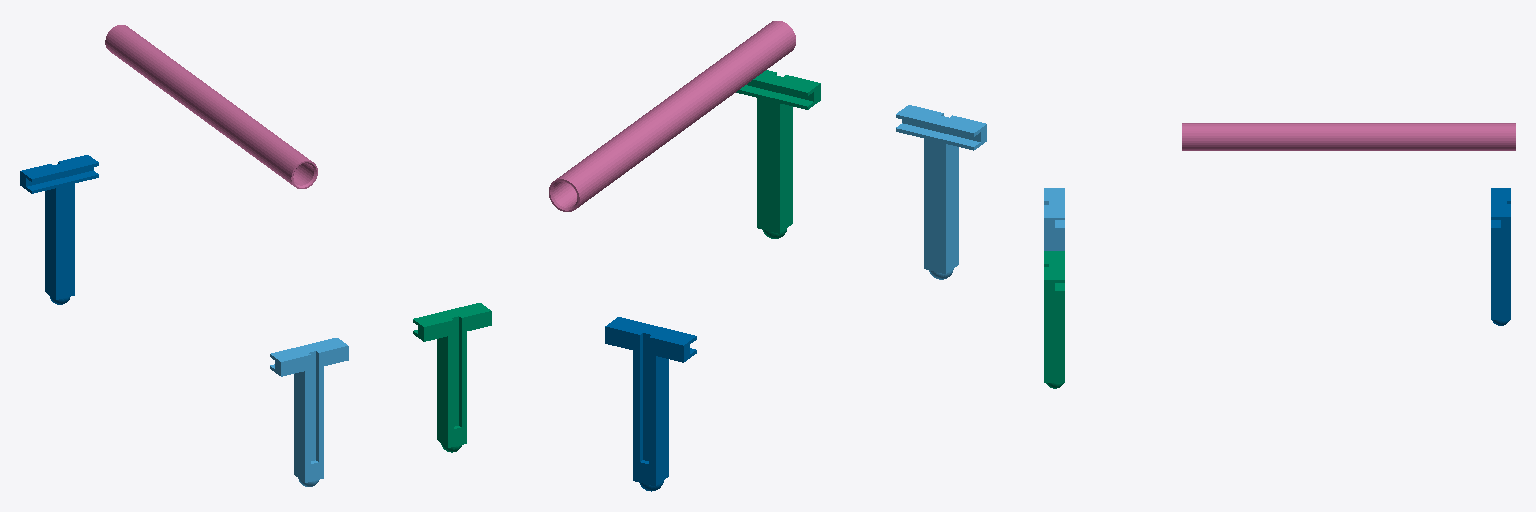
robot.urdf — BECOV2:
<robot name="BECOV2" version="1.0">
  <joint name="LEG_LEFT_LEFT_JOINT" type="prismatic">
    <limit lower="-0.02500" upper="0.00000" effort="1.00000" velocity="0.10000"/>
    <origin rpy="0.00000 0.00000 0.00000" xyz="-0.02465 -0.03079 -0.04494"/>
    <parent link="VISUAL_LEFTBODY_LINK"/>
    <child link="VISUAL_LEG_LEFT_LEFT_LINK"/>
    <axis xyz="0.00000 0.00000 1.00000"/>
  </joint>
  <joint name="LEG_LEFT_RIGHT_JOINT" type="prismatic">
    <limit lower="-0.02500" upper="0.00000" effort="1.00000" velocity="0.10000"/>
    <origin rpy="0.00000 0.00000 0.00000" xyz="0.02372 -0.03079 -0.04494"/>
    <parent link="VISUAL_LEFTBODY_LINK"/>
    <child link="VISUAL_LEG_LEFT_RIGHT_LINK"/>
    <axis xyz="0.00000 0.00000 1.00000"/>
  </joint>
  <joint name="LEG_RIGHT_LEFT_JOINT" type="prismatic">
    <limit lower="-0.02500" upper="0.00000" effort="1.00000" velocity="0.10000"/>
    <origin rpy="0.00000 0.00000 0.00000" xyz="0.02646 0.01264 -0.04295"/>
    <parent link="VISUAL_RIGHTBODY_LINK"/>
    <child link="VISUAL_LEG_RIGHT_LEFT_LINK"/>
    <axis xyz="0.00000 0.00000 1.00000"/>
  </joint>
  <joint name="LEG_RIGHT_RIGHT_JOINT" type="prismatic">
    <limit lower="-0.02500" upper="0.00000" effort="1.00000" velocity="0.10000"/>
    <origin rpy="0.00000 0.00000 0.00000" xyz="-0.02190 0.01264 -0.04295"/>
    <parent link="VISUAL_RIGHTBODY_LINK"/>
    <child link="VISUAL_LEG_RIGHT_RIGHT_LINK"/>
    <axis xyz="0.00000 0.00000 1.00000"/>
  </joint>
  <joint name="RIGHTBODY_JOINT" type="fixed">
    <origin rpy="0.00000 0.00000 0.00000" xyz="-0.00067 0.03262 -0.02065"/>
    <parent link="VISUAL_SHAFT_LINK"/>
    <child link="VISUAL_RIGHTBODY_LINK"/>
  </joint>
  <joint name="SHAFT_JOINT" type="prismatic">
    <limit lower="0.00000" upper="0.10000" effort="1.00000" velocity="0.10000"/>
    <origin rpy="0.00000 0.00000 0.00000" xyz="-0.00207 0.06764 0.01866"/>
    <parent link="VISUAL_LEFTBODY_LINK"/>
    <child link="VISUAL_SHAFT_LINK"/>
    <axis xyz="0.00000 1.00000 0.00000"/>
  </joint>
  <link name="VISUAL_LEFTBODY_LINK">
    <collision name="LEFTBODYC1">
      <origin rpy="0.00000 0.00000 0.00000" xyz="-0.00043 -0.01087 -0.00050"/>
      <geometry>
        <box size="0.07056 0.06465 0.02289"/>
      </geometry>
    </collision>
    <collision name="LEFTBODYC2">
      <origin rpy="0.00000 0.00000 0.00000" xyz="-0.00043 -0.01093 -0.03282"/>
      <geometry>
        <box size="0.02304 0.06465 0.03785"/>
      </geometry>
    </collision>
    <collision name="LEFTBODYC3">
      <origin rpy="0.00000 0.00000 0.00000" xyz="-0.03262 -0.01093 -0.03282"/>
      <geometry>
        <box size="0.00636 0.06465 0.03785"/>
      </geometry>
    </collision>
    <collision name="LEFTBODYC4">
      <origin rpy="0.00000 0.00000 0.00000" xyz="-0.01675 -0.01093 -0.03282"/>
      <geometry>
        <box size="0.00636 0.06465 0.03785"/>
      </geometry>
    </collision>
    <collision name="LEFTBODYC5">
      <origin rpy="0.00000 0.00000 0.00000" xyz="0.01559 -0.01093 -0.03282"/>
      <geometry>
        <box size="0.00636 0.06465 0.03785"/>
      </geometry>
    </collision>
    <collision name="LEFTBODYC6">
      <origin rpy="0.00000 0.00000 0.00000" xyz="0.03146 -0.01093 -0.03282"/>
      <geometry>
        <box size="0.00636 0.06465 0.03785"/>
      </geometry>
    </collision>
    <inertial>
      <inertia ixx="0.00100" ixy="0.00000" ixz="0.00000" iyy="0.00100" iyz="0.00000" izz="0.00100"/>
      <origin rpy="0.00000 0.00000 0.00000" xyz="-0.00036 -0.01043 -0.00849"/>
      <mass value="0.00100"/>
    </inertial>
    <visual name="LEFTBODY_VISUAL">
      <origin rpy="0.00000 -1.57080 0.00000" xyz="-0.00036 -0.01043 -0.00849"/>
      <geometry>
        <mesh filename="../meshes/stl/LEFTBODY.stl" scale="1.00000 1.00000 1.00000"/>
      </geometry>
    </visual>
  </link>
  <link name="VISUAL_LEG_LEFT_LEFT_LINK">
    <collision name="LEG_LEFT_LEFTC1">
      <origin rpy="0.00000 0.00000 0.00000" xyz="0.00023 -0.00038 0.00817"/>
      <geometry>
        <box size="0.00636 0.00674 0.03892"/>
      </geometry>
    </collision>
    <collision name="LEG_LEFT_LEFTC2">
      <origin rpy="0.00000 0.00000 0.00000" xyz="0.00019 -0.00045 -0.01436"/>
      <geometry>
        <mesh filename="../meshes/stl/Sphere.001.stl" scale="1.00000 1.00000 1.00000"/>
      </geometry>
    </collision>
    <inertial>
      <inertia ixx="0.00100" ixy="0.00000" ixz="0.00000" iyy="0.00100" iyz="0.00000" izz="0.00100"/>
      <origin rpy="0.00000 0.00000 0.00000" xyz="0.00019 -0.00045 -0.01199"/>
      <mass value="0.00100"/>
    </inertial>
    <visual name="LEG_LEFT_LEFT_VISUAL">
      <origin rpy="1.57080 0.00000 0.00000" xyz="0.00019 -0.00045 -0.01210"/>
      <geometry>
        <mesh filename="../meshes/stl/LEG_LEFT_RIGHT.stl" scale="1.00000 1.00000 1.00000"/>
      </geometry>
    </visual>
  </link>
  <link name="VISUAL_LEG_LEFT_RIGHT_LINK">
    <collision name="LEG_LEFT_RIGHTC1">
      <origin rpy="0.00000 0.00000 0.00000" xyz="-0.00045 -0.00038 0.00817"/>
      <geometry>
        <box size="0.00636 0.00674 0.03892"/>
      </geometry>
    </collision>
    <collision name="LEG_LEFT_RIGHTC2">
      <origin rpy="0.00000 0.00000 0.00000" xyz="-0.00041 -0.00045 -0.01436"/>
      <geometry>
        <mesh filename="../meshes/stl/Sphere.002.stl" scale="1.00000 1.00000 1.00000"/>
      </geometry>
    </collision>
    <inertial>
      <inertia ixx="0.00100" ixy="0.00000" ixz="0.00000" iyy="0.00100" iyz="0.00000" izz="0.00100"/>
      <origin rpy="0.00000 0.00000 0.00000" xyz="-0.00030 -0.00045 -0.01199"/>
      <mass value="0.00100"/>
    </inertial>
    <visual name="LEG_LEFT_RIGHT_VISUAL">
      <origin rpy="1.57080 0.00000 0.00000" xyz="-0.00030 -0.00045 -0.01210"/>
      <geometry>
        <mesh filename="../meshes/stl/LEG_LEFT_LEFT.stl" scale="1.00000 1.00000 1.00000"/>
      </geometry>
    </visual>
  </link>
  <link name="VISUAL_LEG_RIGHT_LEFT_LINK">
    <collision name="LEG_RIGHT_LEFTC1">
      <origin rpy="-0.00000 0.00000 0.00000" xyz="-0.00024 0.00047 0.00817"/>
      <geometry>
        <box size="0.00636 0.00674 0.03892"/>
      </geometry>
    </collision>
    <collision name="LEG_RIGHT_LEFTC2">
      <origin rpy="-0.00000 0.00000 0.00000" xyz="-0.00027 0.00041 -0.01436"/>
      <geometry>
        <mesh filename="../meshes/stl/Sphere.004.stl" scale="1.00000 1.00000 1.00000"/>
      </geometry>
    </collision>
    <inertial>
      <inertia ixx="0.00100" ixy="0.00000" ixz="0.00000" iyy="0.00100" iyz="0.00000" izz="0.00100"/>
      <origin rpy="0.00000 0.00000 0.00000" xyz="-0.00030 0.00035 -0.01199"/>
      <mass value="0.00100"/>
    </inertial>
    <visual name="LEG_RIGHT_LEFT_VISUAL">
      <origin rpy="1.57080 -0.00000 -3.14159" xyz="-0.00030 0.00035 -0.01199"/>
      <geometry>
        <mesh filename="../meshes/stl/LEG_RIGHT_RIGHT.stl" scale="1.00000 1.00000 1.00000"/>
      </geometry>
    </visual>
  </link>
  <link name="VISUAL_LEG_RIGHT_RIGHT_LINK">
    <collision name="LEG_RIGHT_RIGHTC1">
      <origin rpy="-0.00000 0.00000 0.00000" xyz="0.00023 0.00047 0.00817"/>
      <geometry>
        <box size="0.00636 0.00674 0.03892"/>
      </geometry>
    </collision>
    <collision name="LEG_RIGHT_RIGHTC2">
      <origin rpy="-0.00000 0.00000 0.00000" xyz="0.00019 0.00041 -0.01436"/>
      <geometry>
        <mesh filename="../meshes/stl/Sphere.003.stl" scale="1.00000 1.00000 1.00000"/>
      </geometry>
    </collision>
    <inertial>
      <inertia ixx="0.00100" ixy="0.00000" ixz="0.00000" iyy="0.00100" iyz="0.00000" izz="0.00100"/>
      <origin rpy="0.00000 0.00000 0.00000" xyz="0.00019 0.00035 -0.01199"/>
      <mass value="0.00100"/>
    </inertial>
    <visual name="LEG_RIGHT_RIGHT_VISUAL">
      <origin rpy="1.57080 -0.00000 -3.14159" xyz="0.00019 0.00035 -0.01199"/>
      <geometry>
        <mesh filename="../meshes/stl/LEG_RIGHT_RIGHT.001.stl" scale="1.00000 1.00000 1.00000"/>
      </geometry>
    </visual>
  </link>
  <link name="VISUAL_RIGHTBODY_LINK">
    <collision name="RIGHTBODYC1">
      <origin rpy="0.00000 0.00000 0.00000" xyz="0.00232 -0.00400 0.00149"/>
      <geometry>
        <box size="0.07056 0.06465 0.02289"/>
      </geometry>
    </collision>
    <collision name="RIGHTBODYC2">
      <origin rpy="0.00000 0.00000 0.00000" xyz="0.00232 -0.00412 -0.03084"/>
      <geometry>
        <box size="0.02304 0.06465 0.03785"/>
      </geometry>
    </collision>
    <collision name="RIGHTBODYC3">
      <origin rpy="0.00000 0.00000 0.00000" xyz="-0.02988 -0.00412 -0.03084"/>
      <geometry>
        <box size="0.00636 0.06465 0.03785"/>
      </geometry>
    </collision>
    <collision name="RIGHTBODYC4">
      <origin rpy="0.00000 0.00000 0.00000" xyz="-0.01401 -0.00412 -0.03084"/>
      <geometry>
        <box size="0.00636 0.06465 0.03785"/>
      </geometry>
    </collision>
    <collision name="RIGHTBODYC5">
      <origin rpy="0.00000 0.00000 0.00000" xyz="0.01834 -0.00412 -0.03084"/>
      <geometry>
        <box size="0.00636 0.06465 0.03785"/>
      </geometry>
    </collision>
    <collision name="RIGHTBODYC6">
      <origin rpy="0.00000 0.00000 0.00000" xyz="0.03421 -0.00412 -0.03084"/>
      <geometry>
        <box size="0.00636 0.06465 0.03785"/>
      </geometry>
    </collision>
    <inertial>
      <inertia ixx="0.00100" ixy="0.00000" ixz="0.00000" iyy="0.00100" iyz="0.00000" izz="0.00100"/>
      <origin rpy="0.00000 0.00000 0.00000" xyz="0.00185 -0.01699 0.01912"/>
      <mass value="0.00100"/>
    </inertial>
    <visual name="RIGHTBODY_VISUAL">
      <origin rpy="-3.14159 -1.57080 0.00000" xyz="0.00185 -0.01699 -0.02163"/>
      <geometry>
        <mesh filename="../meshes/stl/RIGHTBODY.stl" scale="1.00000 1.00000 1.00000"/>
      </geometry>
    </visual>
  </link>
  <link name="VISUAL_SHAFT_LINK">
    <collision name="SHAFTC1">
      <origin rpy="0.00000 0.00000 0.00000" xyz="-0.00009 -0.00797 -0.00153"/>
      <geometry>
        <box size="0.01140 0.11669 0.01140"/>
      </geometry>
    </collision>
    <inertial>
      <inertia ixx="0.00100" ixy="0.00000" ixz="0.00000" iyy="0.00100" iyz="0.00000" izz="0.00100"/>
      <origin rpy="0.00000 0.00000 0.00000" xyz="-0.00003 -0.00366 -0.00153"/>
      <mass value="0.00100"/>
    </inertial>
    <visual name="SHAFT_VISUAL">
      <origin rpy="0.00000 0.00000 0.00000" xyz="-0.00003 -0.00366 -0.00153"/>
      <geometry>
        <mesh filename="../meshes/stl/SHAFT.stl" scale="1.00000 1.00000 1.00000"/>
      </geometry>
    </visual>
  </link>
</robot>

--- Facts derived from the render (not from the file) ---
3 views of the same robot in one strip: view 1: azimuth 30°, elevation 25°; view 2: azimuth 150°, elevation 25°; view 3: azimuth 270°, elevation 25° (orthographic).
Model BECOV2 with 7 links and 6 joints (5 prismatic, 1 fixed), rooted at VISUAL_LEFTBODY_LINK, posed every joint at zero.
Visible links, largest first — view 1: VISUAL_SHAFT_LINK, VISUAL_LEG_LEFT_RIGHT_LINK, VISUAL_LEG_LEFT_LEFT_LINK, VISUAL_LEG_RIGHT_RIGHT_LINK; view 2: VISUAL_SHAFT_LINK, VISUAL_LEG_RIGHT_RIGHT_LINK, VISUAL_LEG_LEFT_LEFT_LINK, VISUAL_LEG_LEFT_RIGHT_LINK; view 3: VISUAL_SHAFT_LINK, VISUAL_LEG_LEFT_RIGHT_LINK, VISUAL_LEG_RIGHT_RIGHT_LINK, VISUAL_LEG_LEFT_LEFT_LINK.
Link boxes in pixels (x1,y1,x2,y2): VISUAL_SHAFT_LINK: (105, 25, 317, 188); VISUAL_LEG_LEFT_RIGHT_LINK: (413, 303, 491, 452); VISUAL_LEG_LEFT_LEFT_LINK: (270, 338, 348, 486); VISUAL_LEG_RIGHT_RIGHT_LINK: (20, 155, 98, 304); VISUAL_SHAFT_LINK: (549, 21, 795, 211); VISUAL_LEG_RIGHT_RIGHT_LINK: (605, 317, 696, 491); VISUAL_LEG_LEFT_LEFT_LINK: (896, 105, 986, 279); VISUAL_LEG_LEFT_RIGHT_LINK: (736, 70, 820, 238); VISUAL_SHAFT_LINK: (1182, 123, 1515, 150); VISUAL_LEG_LEFT_RIGHT_LINK: (1044, 251, 1064, 388); VISUAL_LEG_RIGHT_RIGHT_LINK: (1491, 188, 1510, 325); VISUAL_LEG_LEFT_LEFT_LINK: (1044, 188, 1064, 250).
Size in the robot's own frame: 0.0705 by 0.1526 by 0.0823 metres.
4 mesh visuals loaded from 7 distinct referenced files (4 binary STL); not drawn: 3 (reference not matched to a file when rendering).